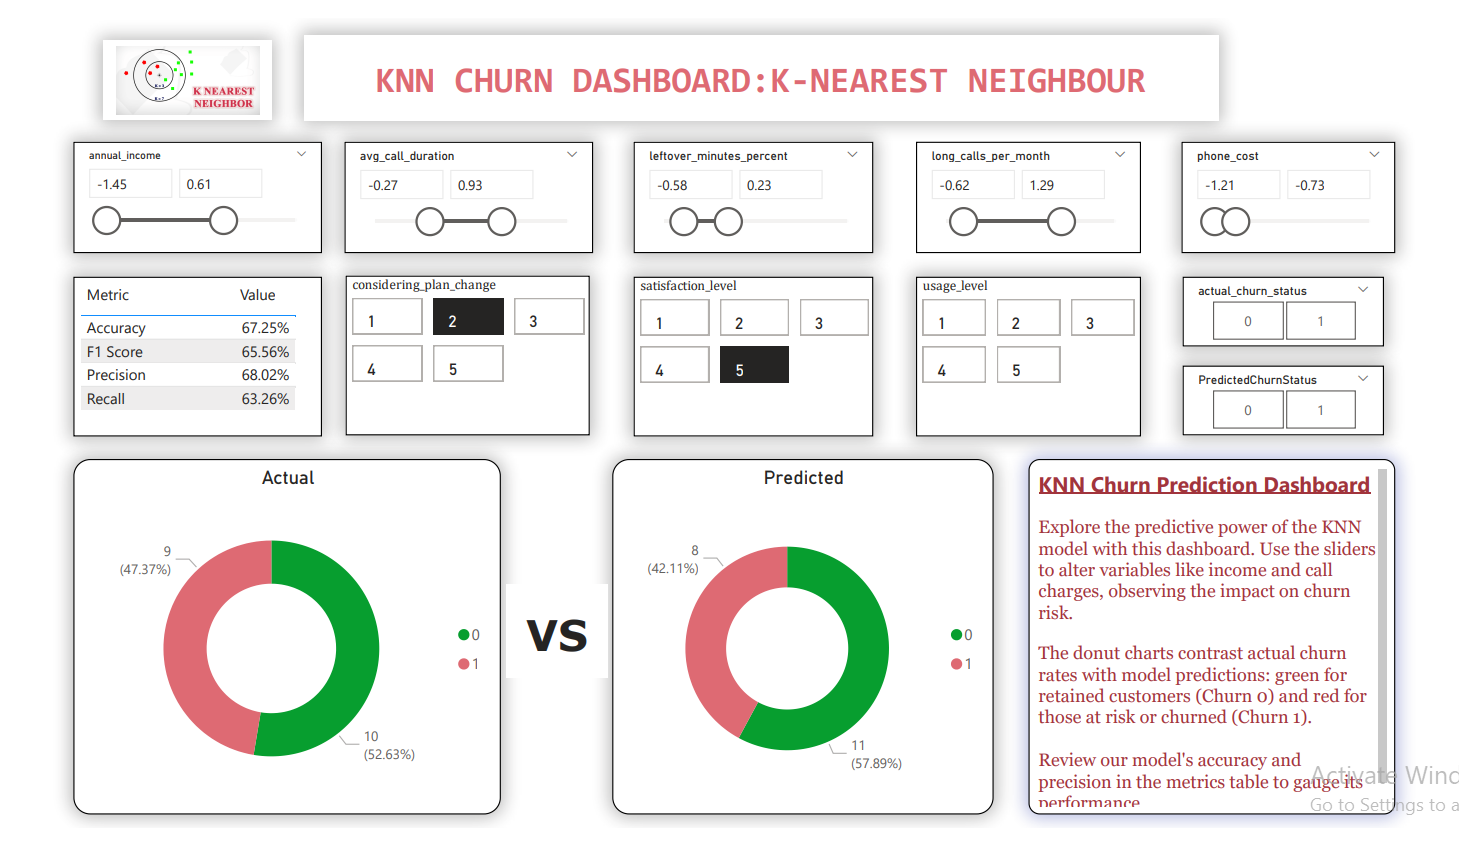

This screenshot's page, from the dashboard's own definition file:
{"tool":"powerbi","page":{"name":"KNN","canvas":[1280,720],"ordinal":2},"visuals":[{"type":"tableEx","fields":{"Values":["Knn_metrics.Metric","Knn_metrics.Value"]},"box":[51.2,230.4,220.9,141.9],"z":1},{"type":"donutChart","title":"Predicted","fields":{"Y":["CountNonNull(k_data.PredictedChurnStatus)"],"Category":["k_data.PredictedChurnStatus"]},"box":[530.2,391.9,338.4,316.3],"z":5},{"type":"donutChart","title":"Actual","fields":{"Category":["k_data.actual_churn_status"],"Y":["CountNonNull(k_data.actual_churn_status)"]},"box":[51.2,391.9,380.2,316.3],"z":6},{"type":"textbox","box":[436,503.5,89.5,82.6],"z":7},{"type":"advancedSlicerVisual","fields":{"Values":["k_data.satisfaction_level"]},"box":[548.8,230.4,212.8,141.9],"z":8},{"type":"advancedSlicerVisual","fields":{"Values":["k_data.considering_plan_change"]},"box":[293,229.2,217.4,141.9],"z":9},{"type":"advancedSlicerVisual","fields":{"Values":["k_data.usage_level"]},"box":[800,230.4,200,141.9],"z":10},{"type":"slicer","fields":{"Values":["k_data.actual_churn_status"]},"box":[1037.2,230.2,179.1,61.6],"z":11},{"type":"slicer","fields":{"Values":["k_data.annual_income"]},"box":[51.2,110.5,220.9,98.8],"z":12},{"type":"slicer","fields":{"Values":["k_data.avg_call_duration"]},"box":[291.9,110.5,220.9,98.8],"z":13},{"type":"slicer","fields":{"Values":["k_data.leftover_minutes_percent"]},"box":[548.8,110.5,212.8,98.8],"z":14},{"type":"slicer","fields":{"Values":["k_data.long_calls_per_month"]},"box":[800,110.5,200,98.8],"z":15},{"type":"slicer","fields":{"Values":["k_data.phone_cost"]},"box":[1036,110.5,189.5,98.8],"z":16},{"type":"textbox","box":[255.8,15.1,812.8,75.6],"z":18},{"type":"image","box":[76.7,19.8,150,70.9],"z":19},{"type":"slicer","fields":{"Values":["k_data.PredictedChurnStatus"]},"box":[1037.2,309.3,179.1,61.6],"z":20},{"type":"textbox","box":[900,391.9,325.6,316.3],"z":21}]}

Visuals, with their boxes in screenshot pixels (x1, y1, x2, y2):
tableEx - Knn_metrics.Metric x Knn_metrics.Value: Rect(69, 274, 317, 434)
"Predicted" donutChart: Rect(607, 456, 988, 811)
"Actual" donutChart: Rect(69, 456, 496, 811)
textbox: Rect(502, 581, 602, 674)
advancedSlicerVisual - k_data.satisfaction_level: Rect(628, 274, 868, 434)
advancedSlicerVisual - k_data.considering_plan_change: Rect(341, 273, 585, 432)
advancedSlicerVisual - k_data.usage_level: Rect(911, 274, 1135, 434)
slicer - k_data.actual_churn_status: Rect(1177, 274, 1379, 343)
slicer - k_data.annual_income: Rect(69, 139, 317, 250)
slicer - k_data.avg_call_duration: Rect(340, 139, 588, 250)
slicer - k_data.leftover_minutes_percent: Rect(628, 139, 868, 250)
slicer - k_data.long_calls_per_month: Rect(911, 139, 1135, 250)
slicer - k_data.phone_cost: Rect(1176, 139, 1389, 250)
textbox: Rect(299, 32, 1213, 117)
image: Rect(98, 37, 266, 117)
slicer - k_data.PredictedChurnStatus: Rect(1177, 363, 1379, 432)
textbox: Rect(1023, 456, 1389, 811)
